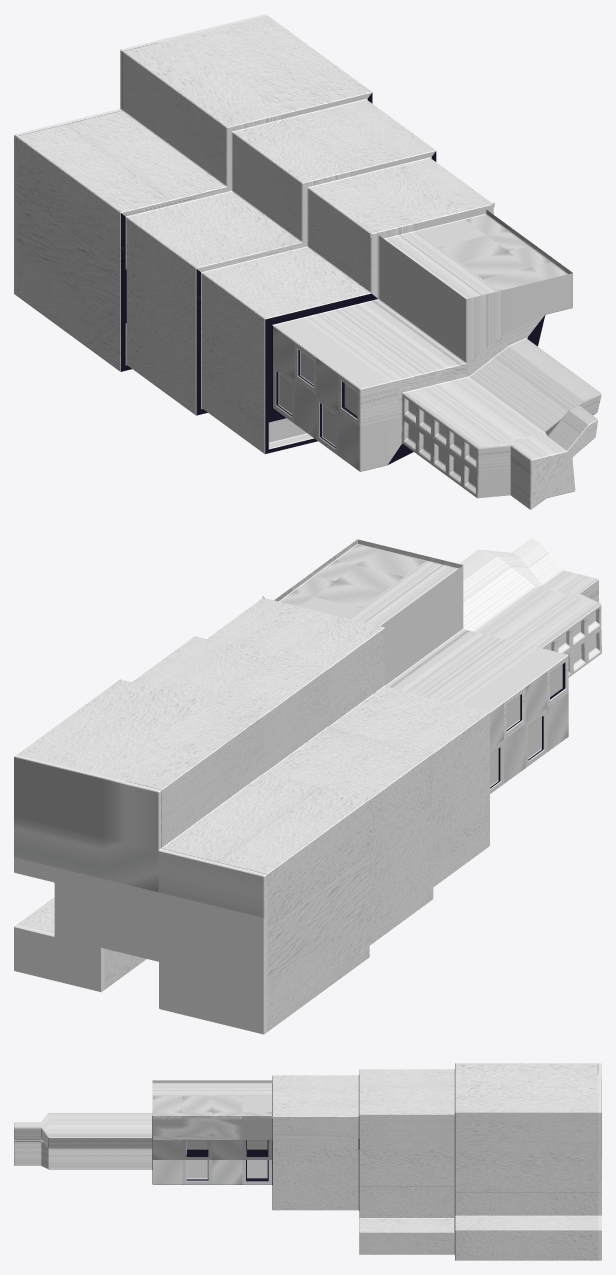
Rendered from skyscrapereind.fbx.
3 renders of one model, top to bottom at view 1: azimuth 30°, elevation 25°; view 2: azimuth 150°, elevation 25°; view 3: azimuth 270°, elevation 25°, orthographic. The views are drawn at different scales.
Parts seen in each view (by area): view 1: Cube; view 2: Cube; view 3: Cube.
Part boxes in pixels (x1,y1,x2,y2): Cube: (14, 14, 601, 509); Cube: (14, 538, 601, 1034); Cube: (14, 1063, 601, 1260).
Bounding box in the file's own units: 3642 × 3019 × 10679.
